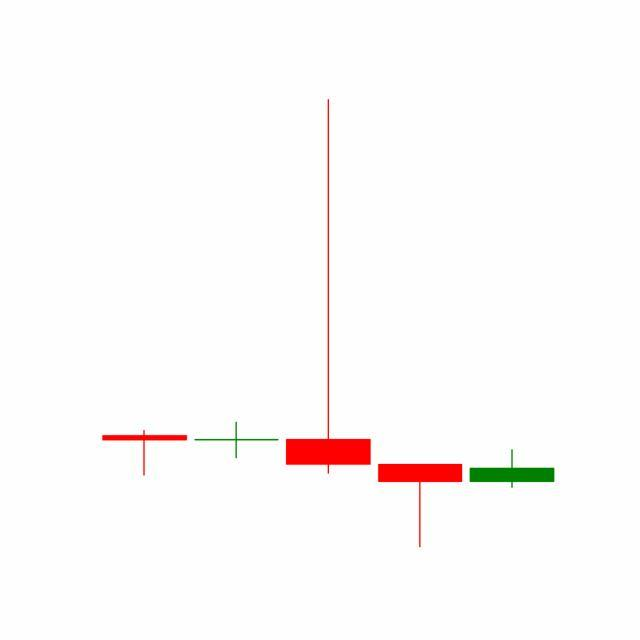Hammer: (374, 464, 468, 550)
